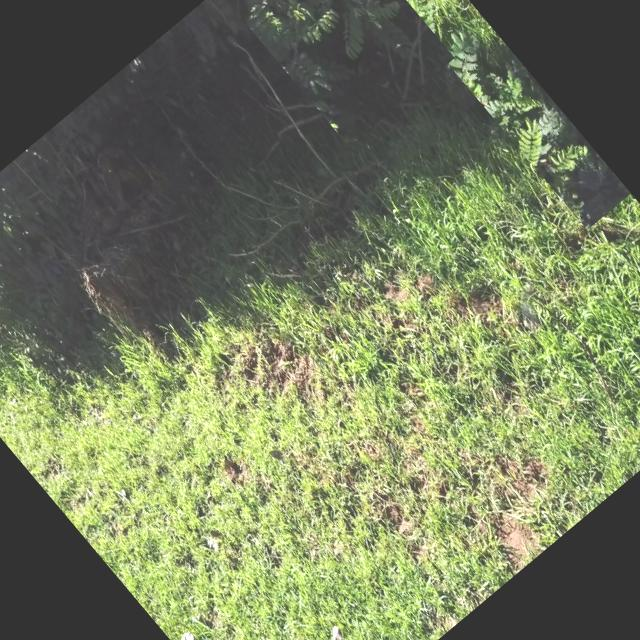Mysore-Thorn-Weed: (391, 0, 631, 229), (216, 0, 454, 146)
